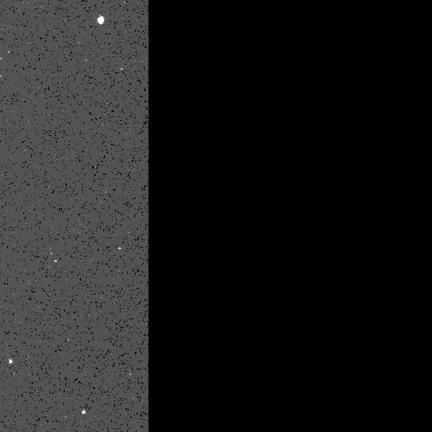blob: (98, 16, 104, 24), (9, 359, 13, 364), (82, 410, 86, 414)
